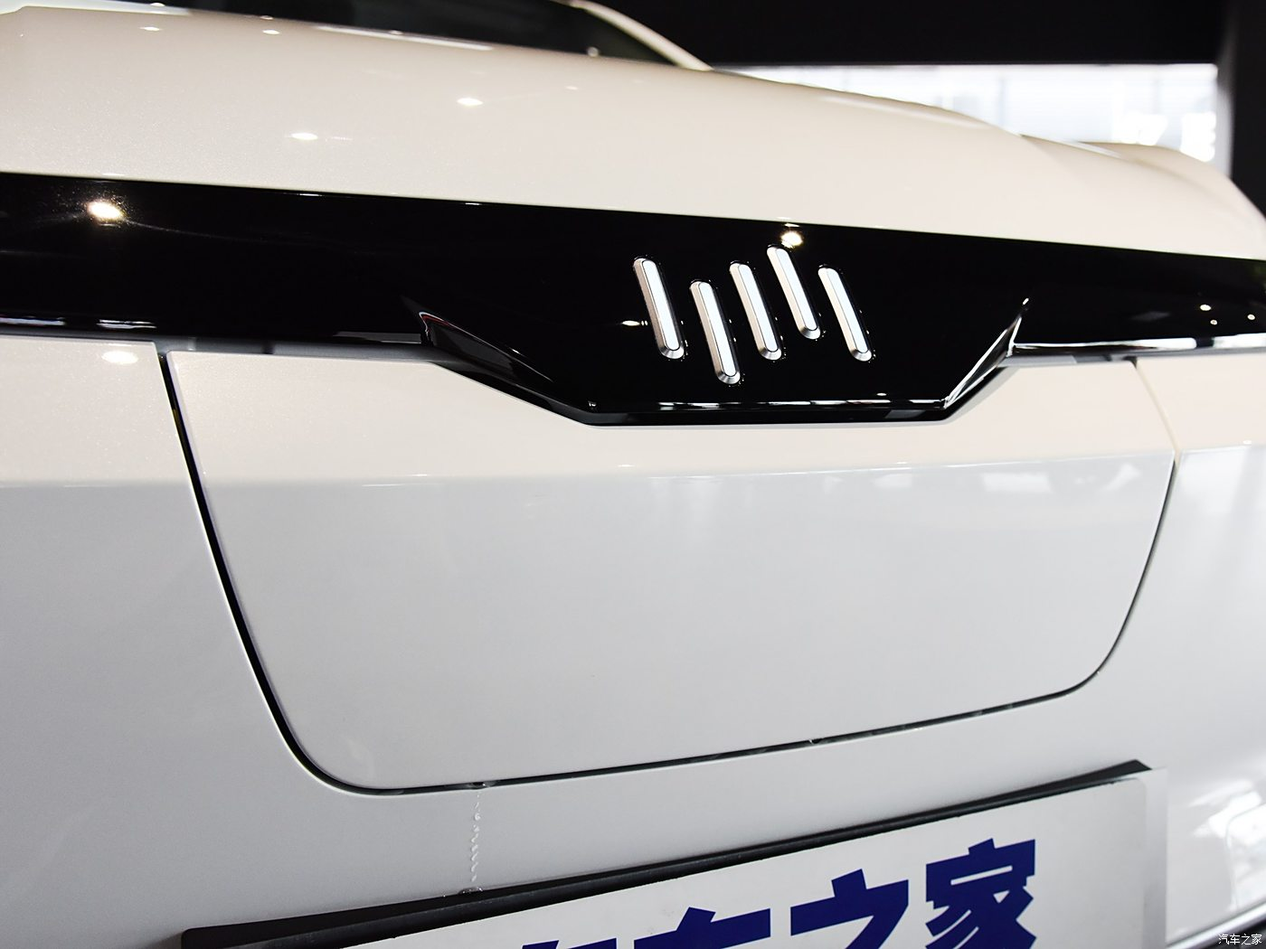WELTMEISTER: (633, 247, 871, 384)
